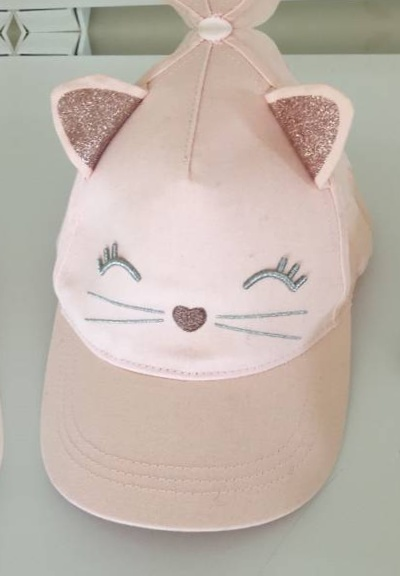Hat: (30, 28, 395, 543), (20, 0, 385, 29), (0, 35, 7, 551)
